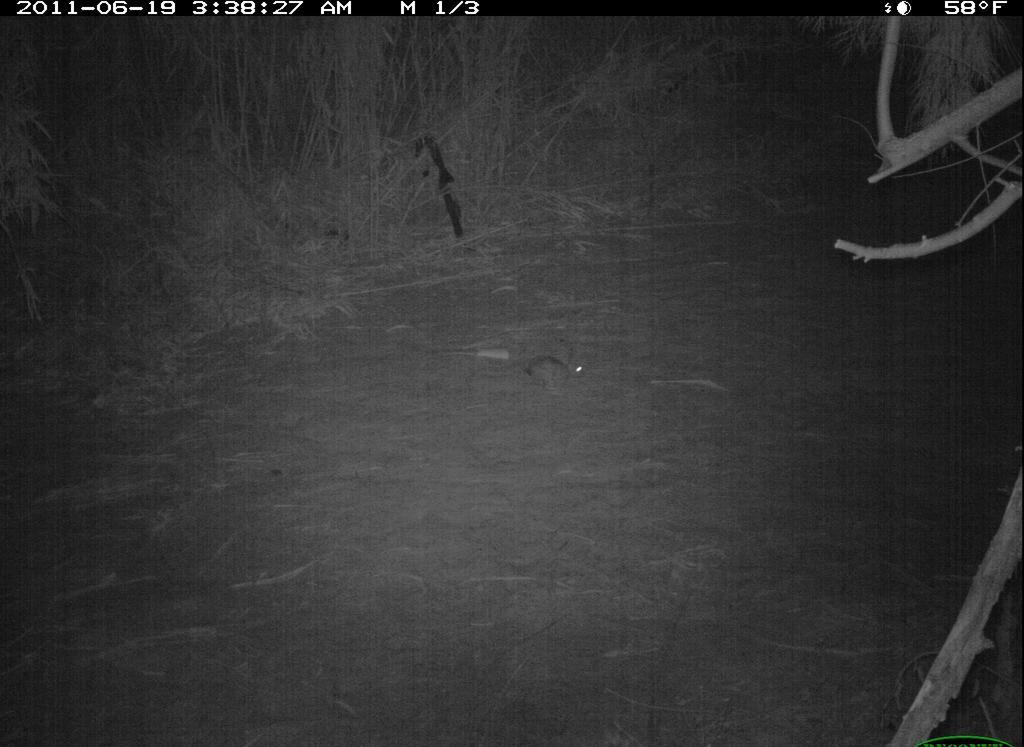rabbit: (505, 342, 612, 402)
